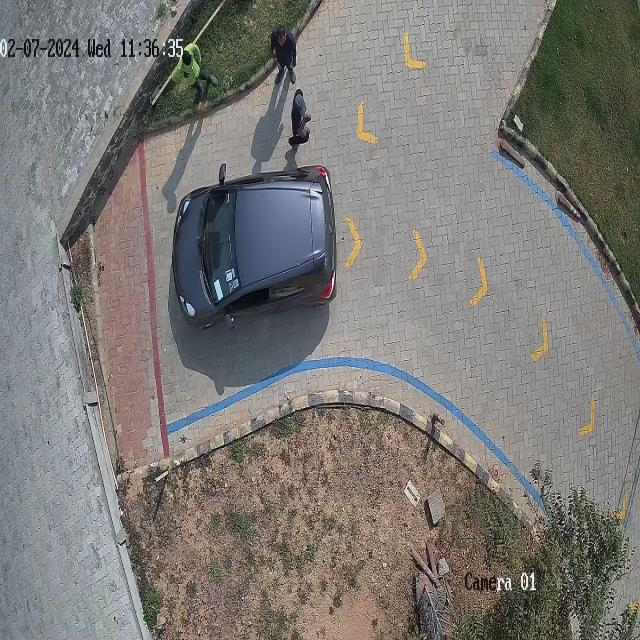car: (171, 164, 336, 328)
